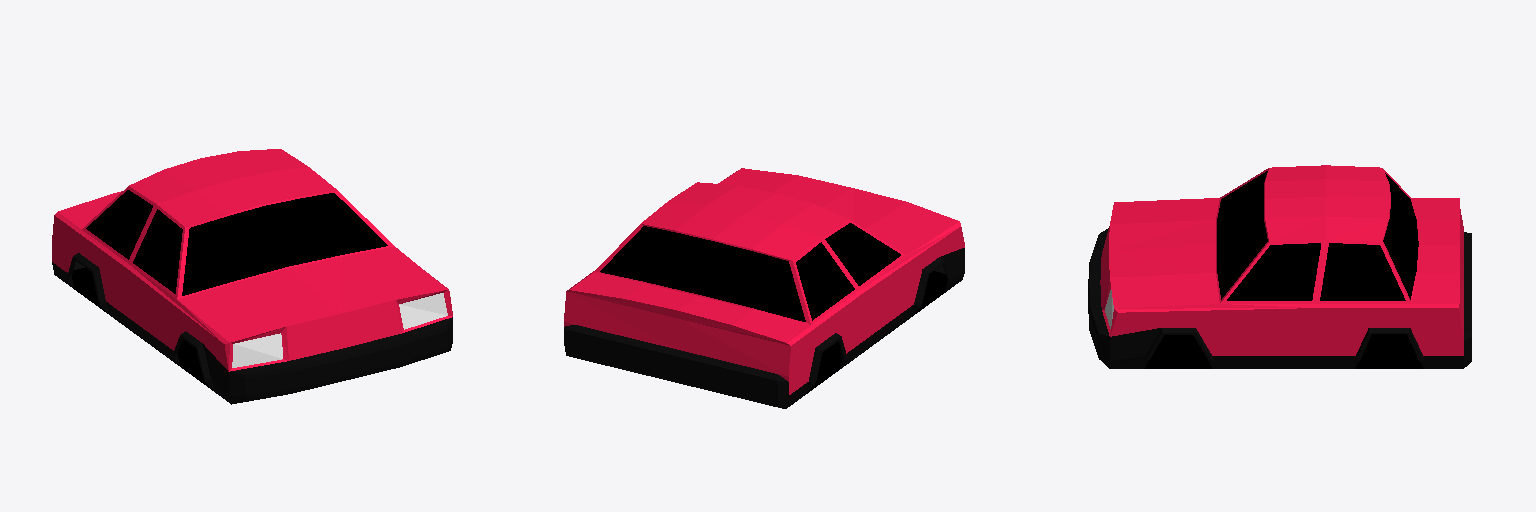
File: Car.obj
The picture shows the model from 3 angles: view 1: azimuth 30°, elevation 25°; view 2: azimuth 150°, elevation 25°; view 3: azimuth 270°, elevation 25°; orthographic projection.
Parts seen in each view (by area): view 1: Car; view 2: Car; view 3: Car.
Boxes of the visible parts, x1,y1,x2,y2 form: Car: [52, 149, 452, 404]; Car: [564, 168, 964, 408]; Car: [1088, 165, 1471, 368].
Size of the model in its own units: 0.5629 by 0.2713 by 0.7931.